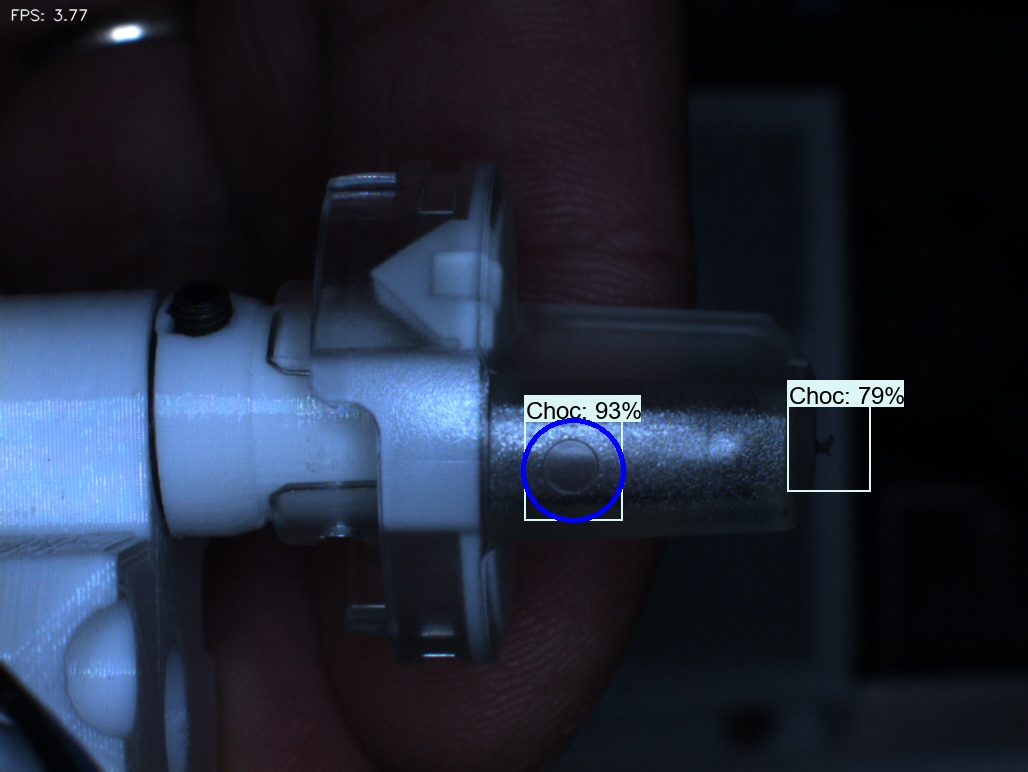DentOk: (345, 237, 427, 326)
